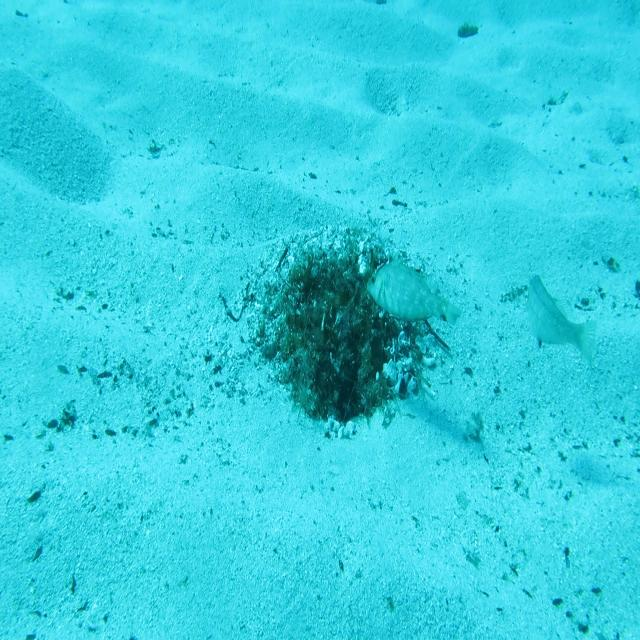ROLL: (365, 247, 464, 329)
core_nest: (312, 272, 362, 313)
female: (524, 274, 600, 373)
nest: (236, 216, 448, 450)
vegetation: (457, 22, 480, 42)
